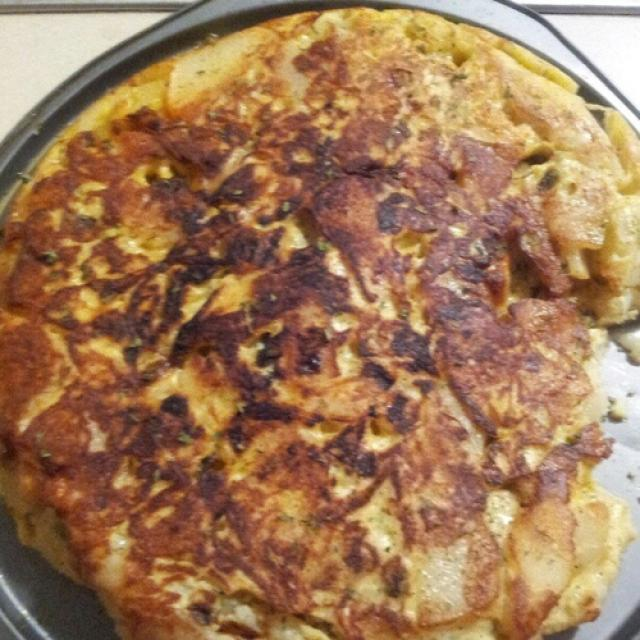面包点心: (5, 18, 623, 631)
